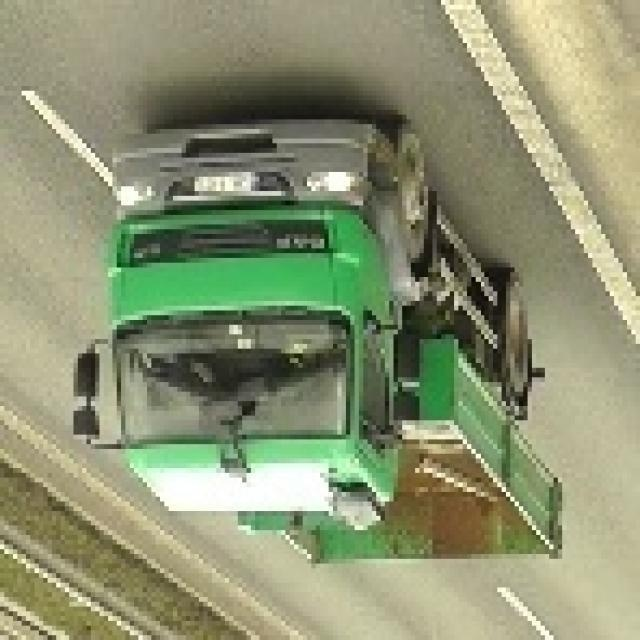Truck: (74, 114, 562, 578)
